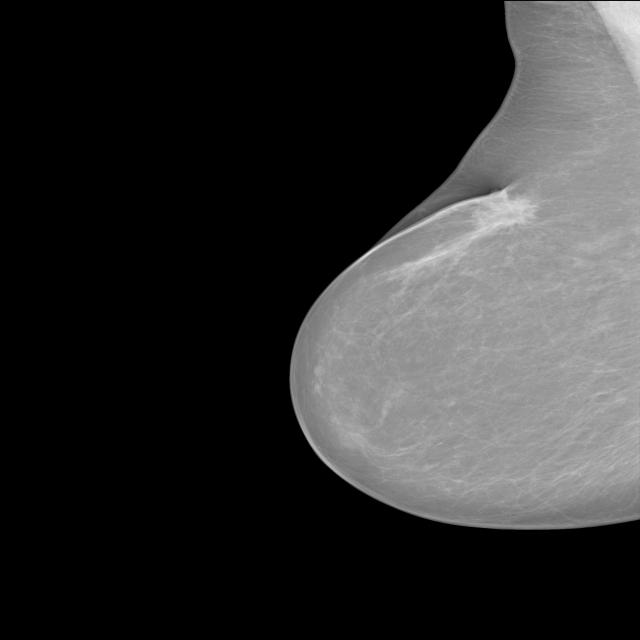Mass_1: (447, 176, 560, 247)
